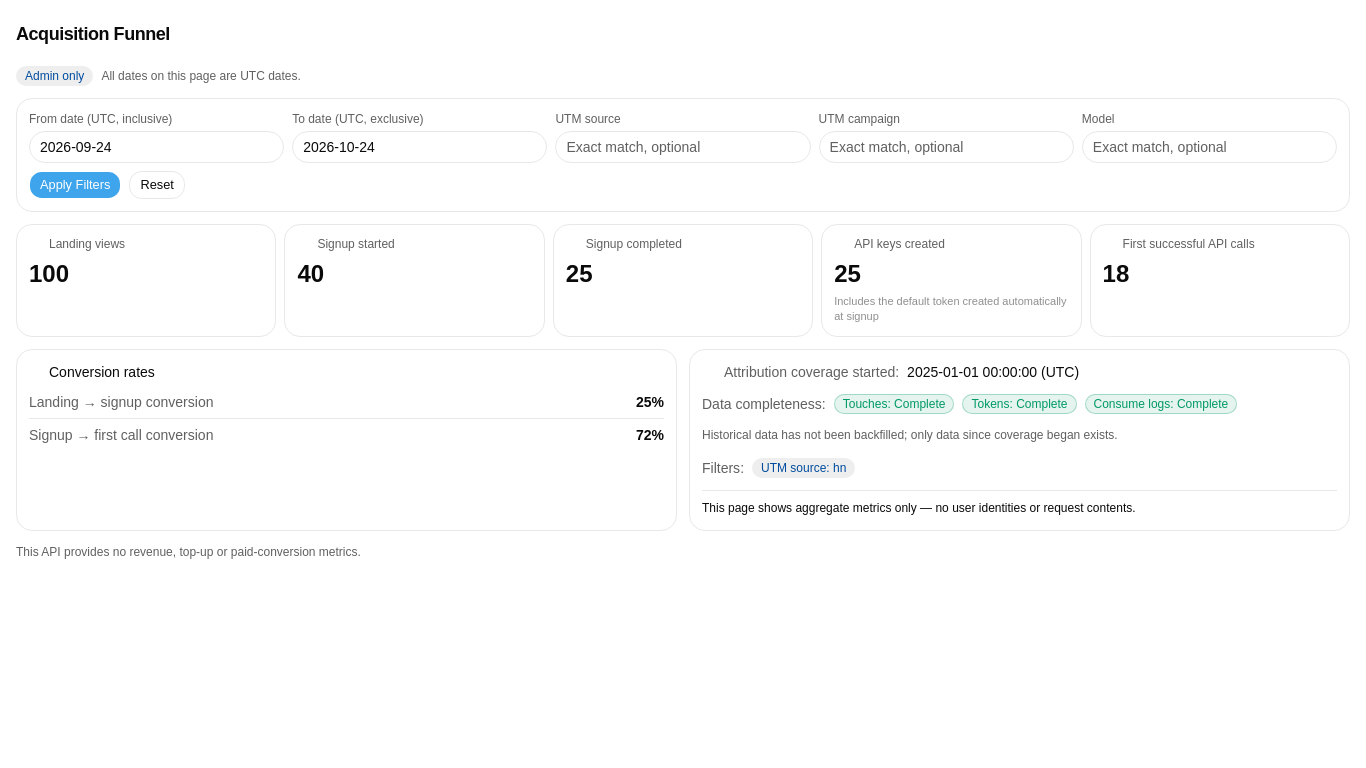
Test: acquisition funnel page behavior › does not request when from >= to and shows a field error instead
Expected: the text "Landing views" is shown, left=49, top=237, right=125, bottom=252
Replace the text in the field labelled "From date (UTC, inclusive)" with "2026-03-10" at point(157, 147), box left=29, top=131, right=284, bottom=163
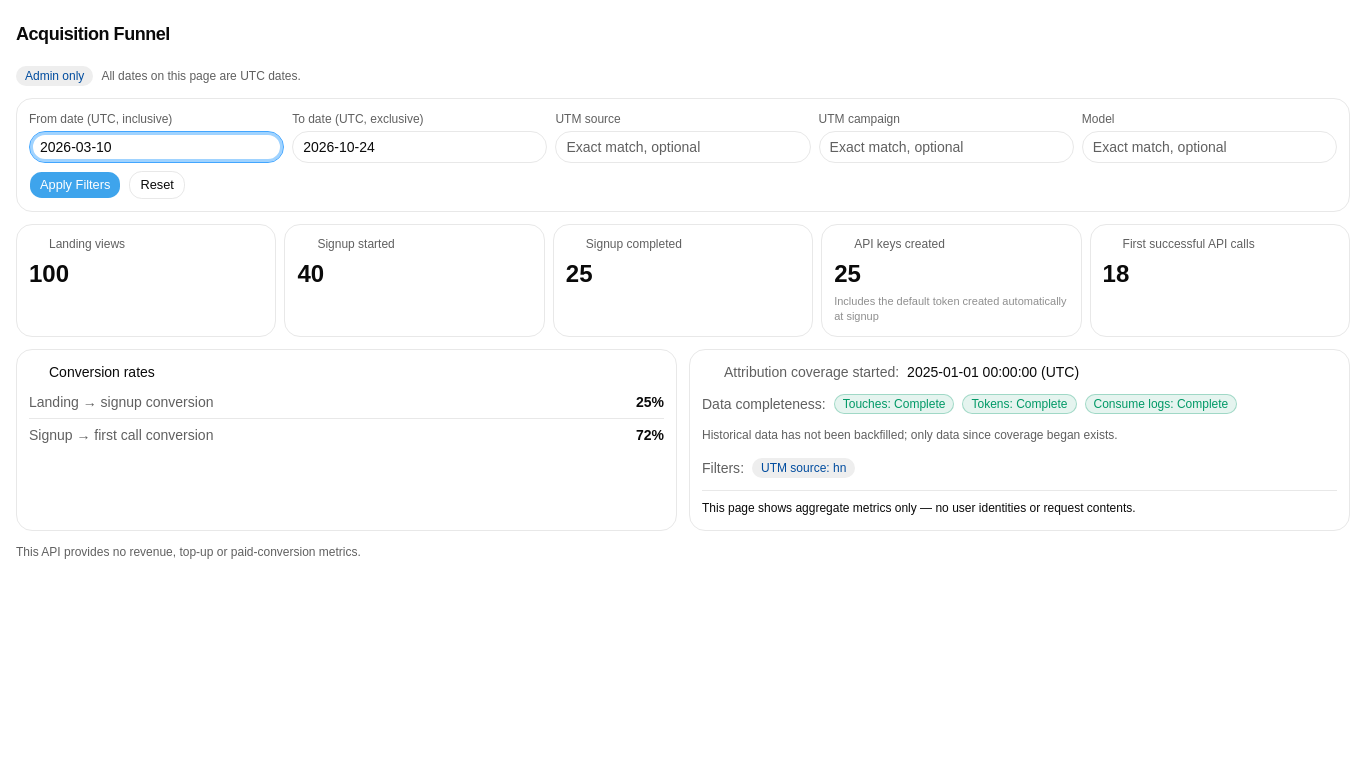
Replace the text in the field labelled "To date (UTC, exclusive)" with "2026-03-05" at point(420, 147), box left=292, top=131, right=547, bottom=163
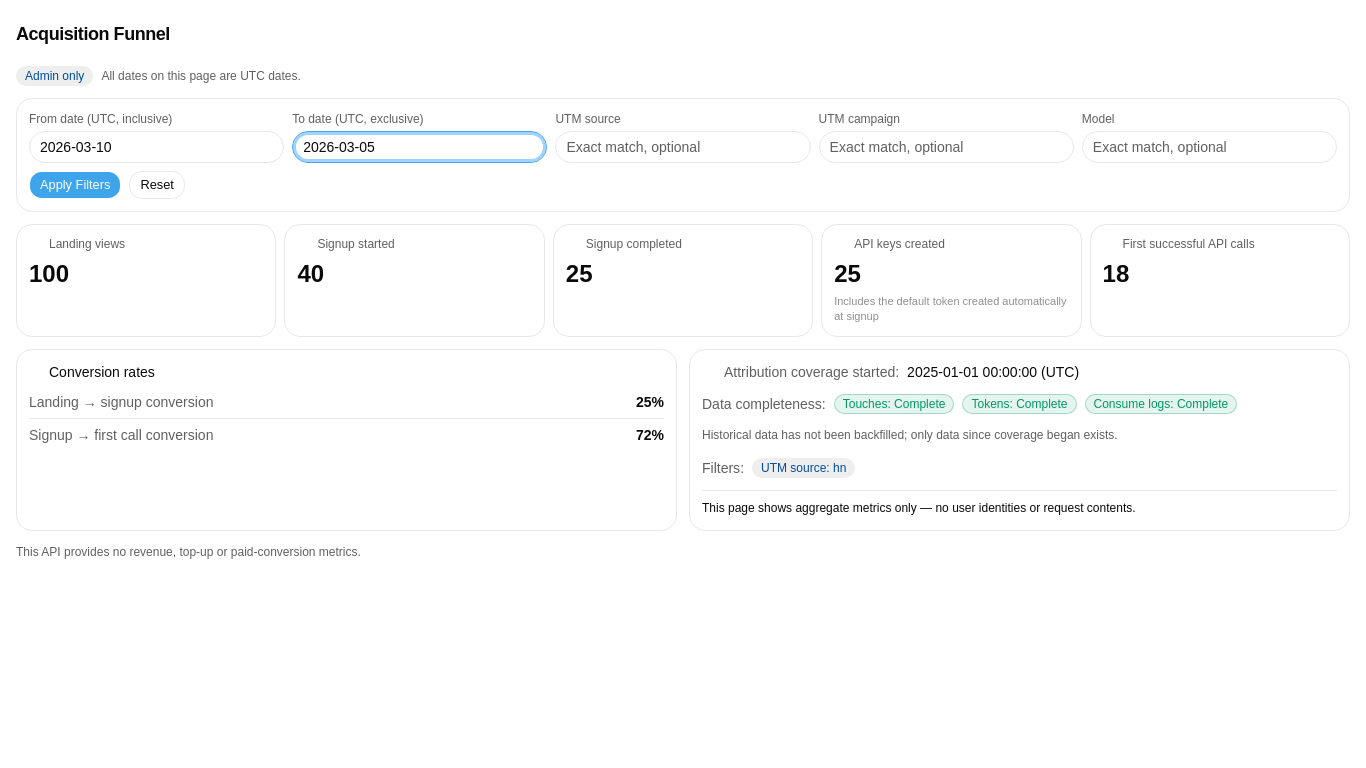
Click the button "Apply Filters".
click(75, 185)  # box left=29, top=171, right=121, bottom=199
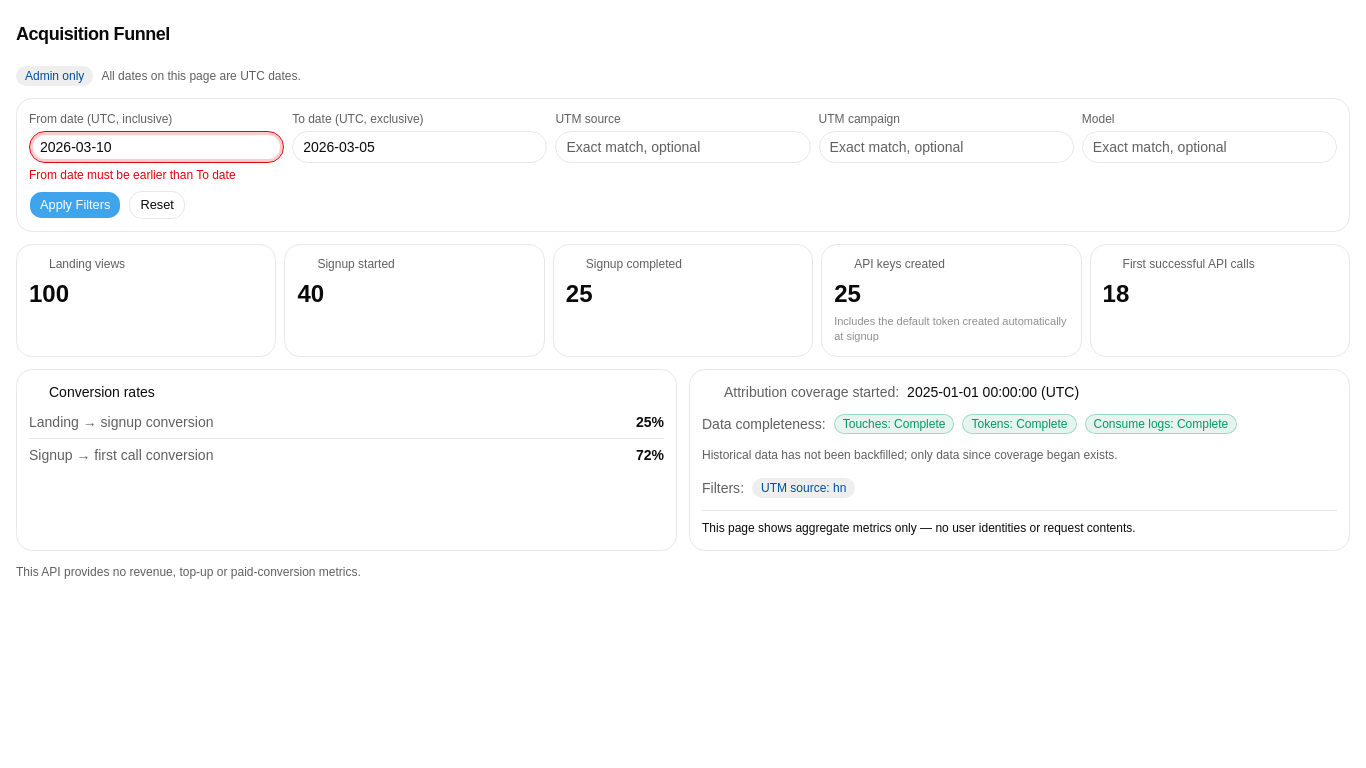
Expected: the text "From date must be earlier than To date" is shown, left=29, top=168, right=236, bottom=182
